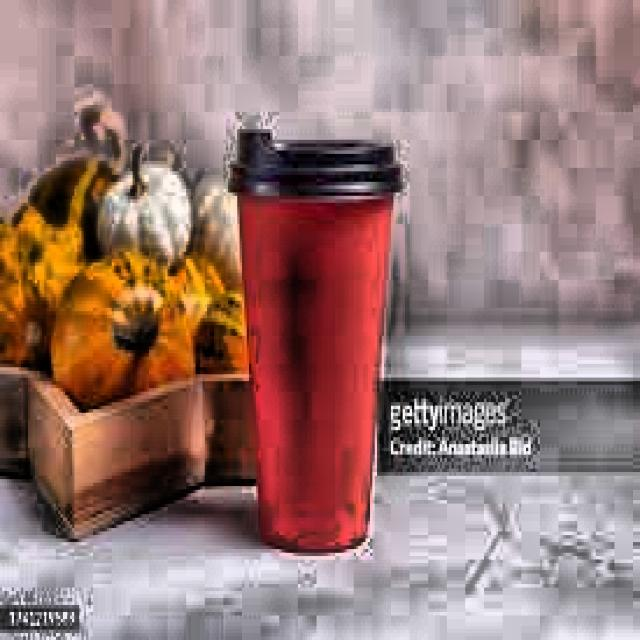Cup: (232, 171, 396, 555)
